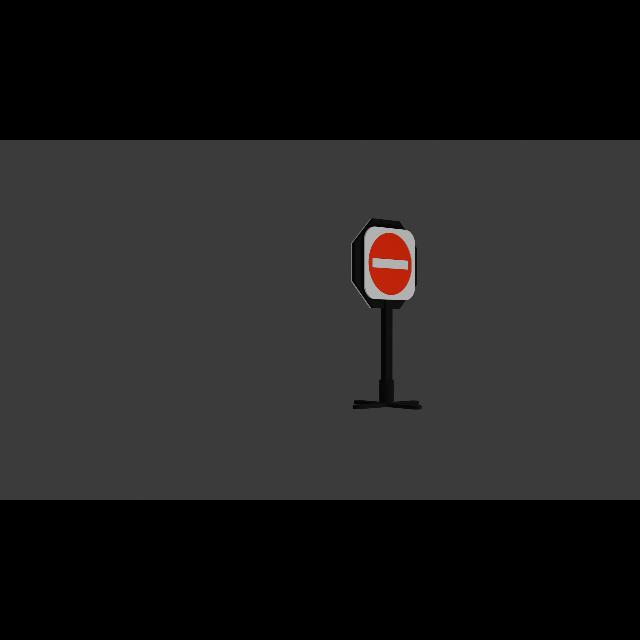sign_noentry: (368, 232, 414, 299)
